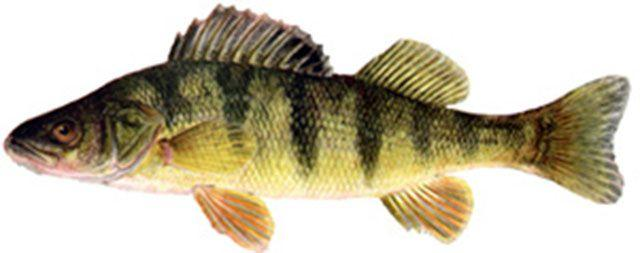Perch: (3, 1, 632, 253)
